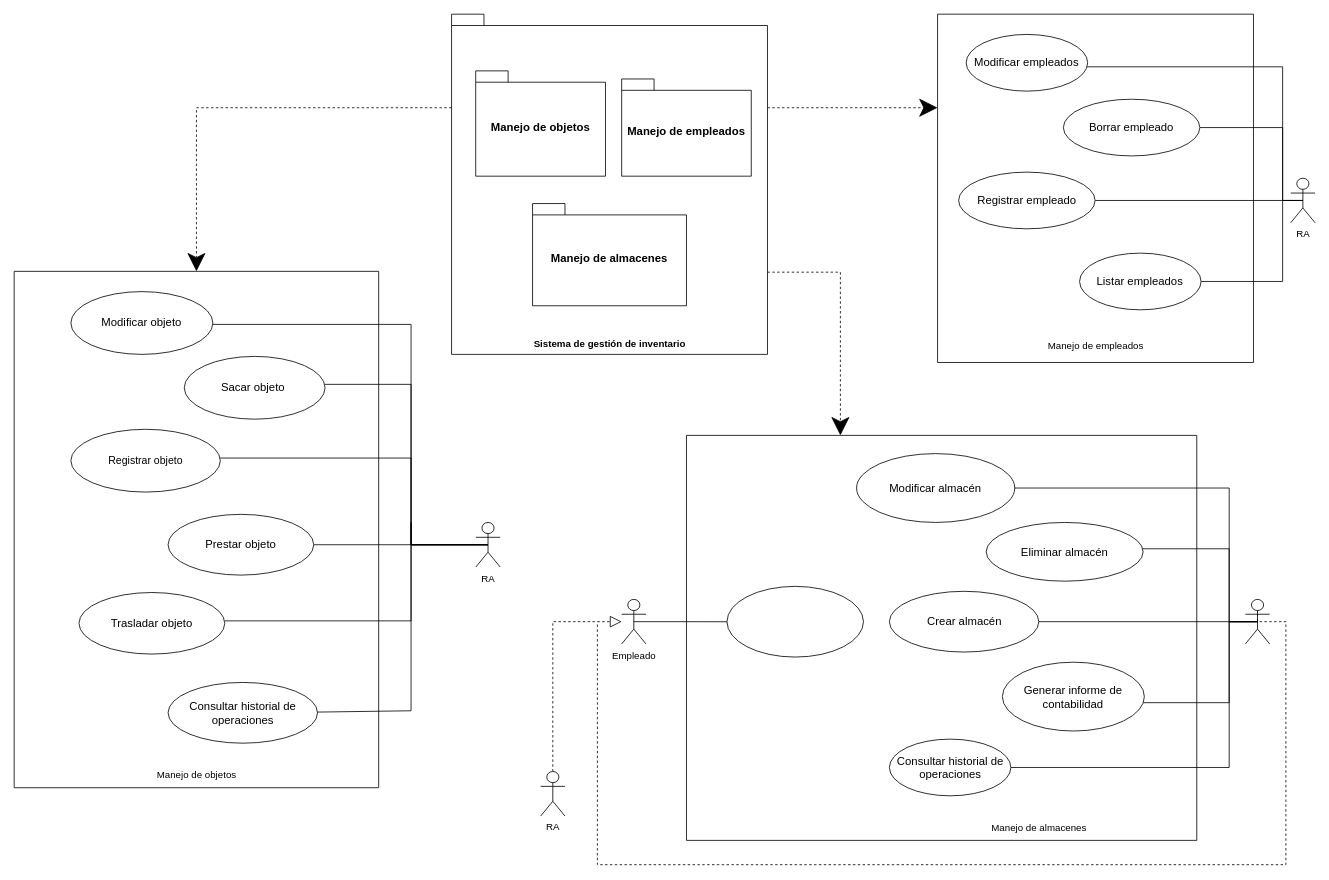
Image size: 1329x880. Some labels were removed from this diagram. Here are the shapes that lost their labels. From the top down, the box of each, then its label:
(726, 586, 863, 657): Consultar el inventario de los almacenes
(1245, 599, 1270, 644): CA
